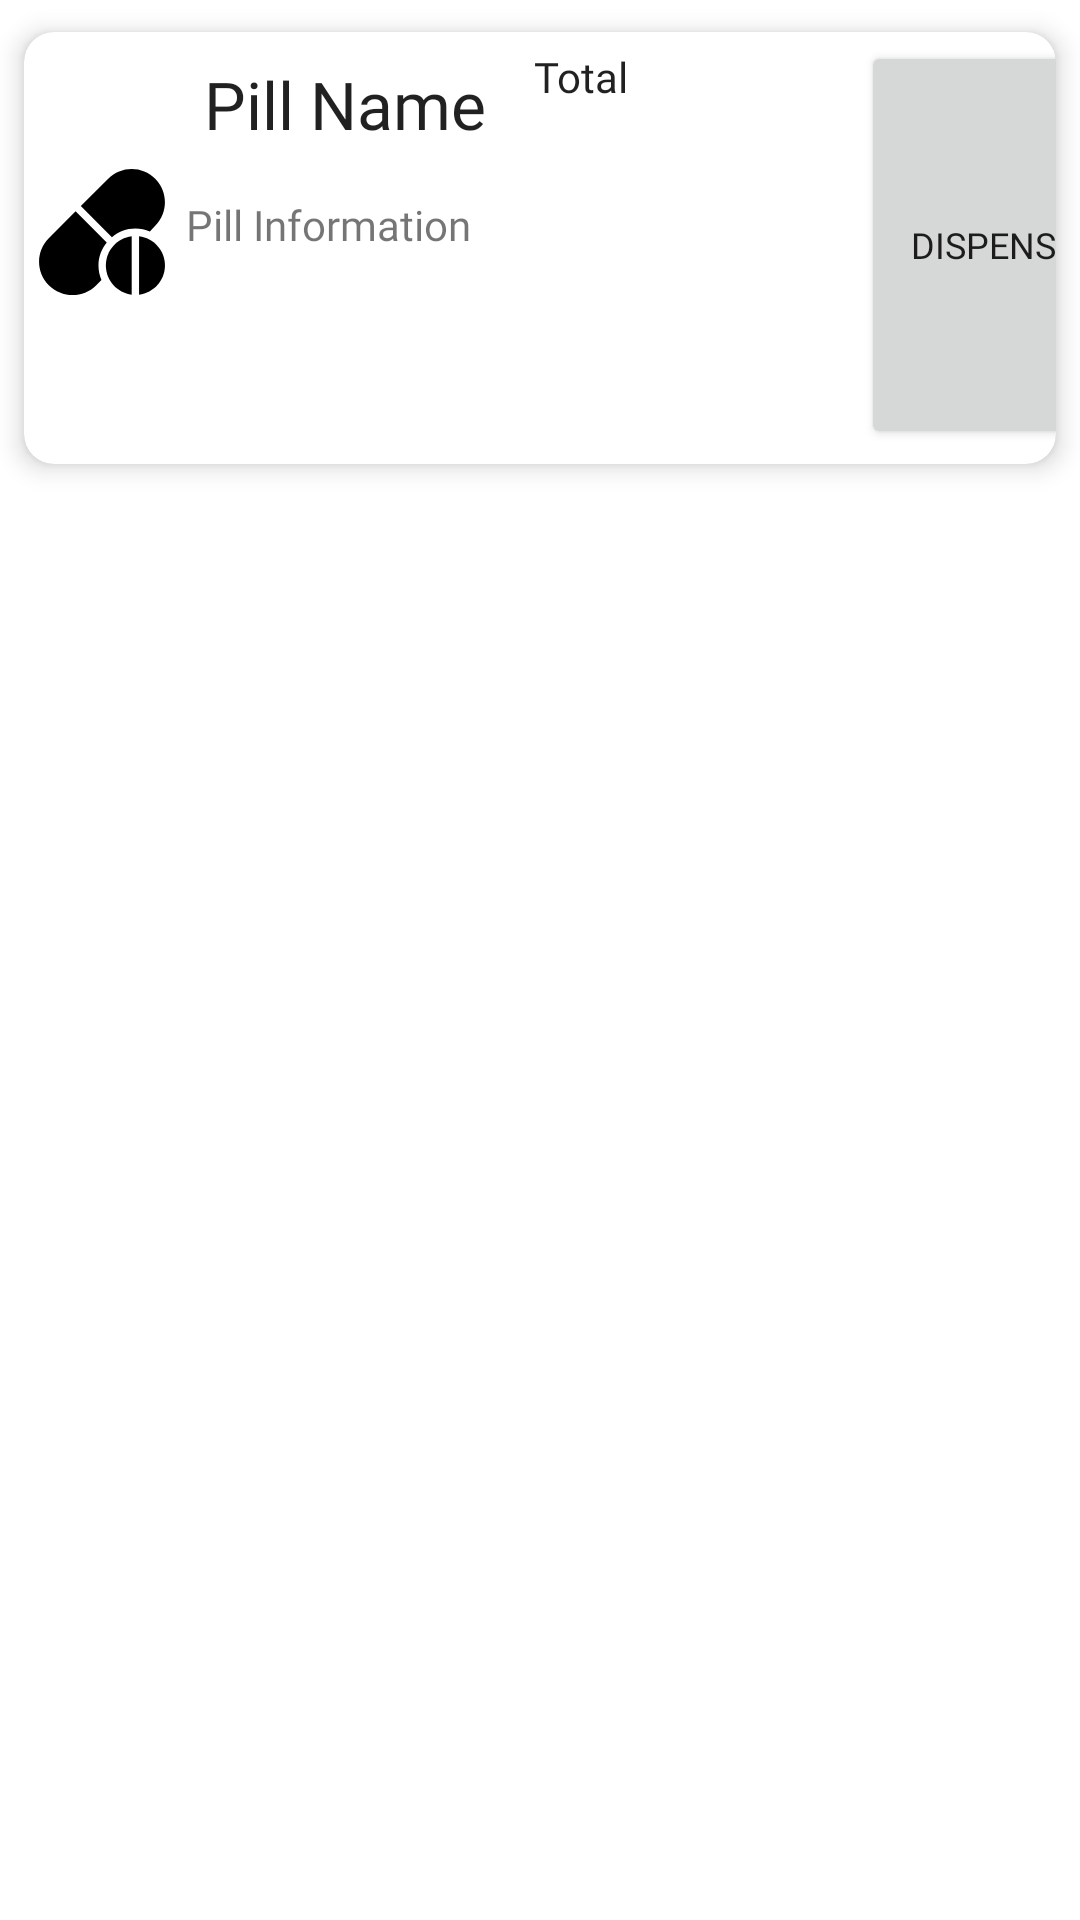

Icons on this 1080px×1920px Android screen, each with its box as (x1, y1, x2, y2):
pillmed: (39, 169, 165, 295)
